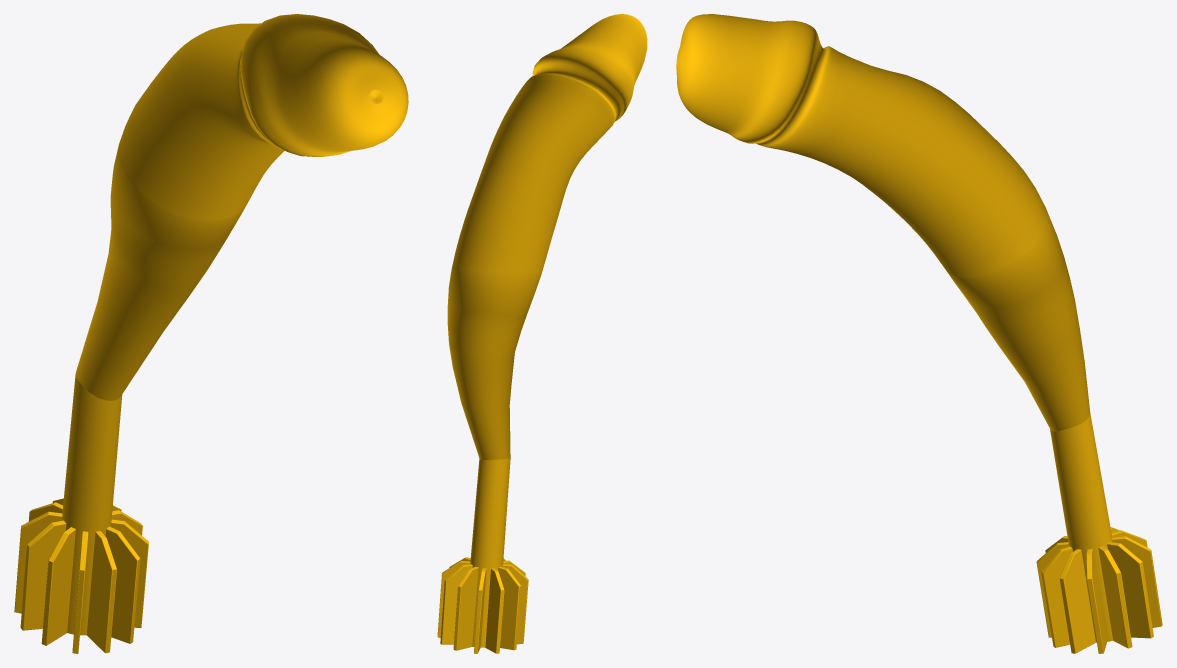
Rendered from rocket.gltf.
The picture shows the model from 3 angles, left to right: view 1: azimuth 30°, elevation 25°; view 2: azimuth 150°, elevation 25°; view 3: azimuth 270°, elevation 25°; orthographic projection. The views are drawn at different scales.
Visible parts, largest first — view 1: מרגמה טובה.1; view 2: מרגמה טובה.1; view 3: מרגמה טובה.1.
Part boxes in pixels (left/top/right/bottom): מרגמה טובה.1: left=14, top=14, right=408, bottom=653; מרגמה טובה.1: left=437, top=14, right=647, bottom=653; מרגמה טובה.1: left=676, top=14, right=1162, bottom=653.
Size of the model in its own units: 1001 by 4290 by 2993.
